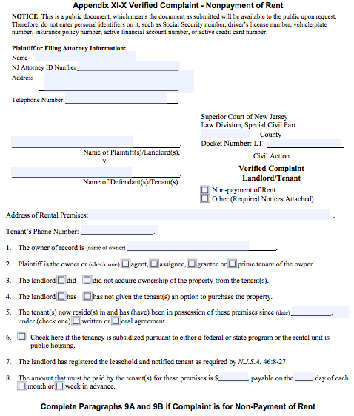checkbox: (110, 315, 121, 326), (186, 258, 197, 268), (81, 275, 92, 285), (16, 380, 27, 390), (198, 194, 210, 203), (16, 332, 28, 341), (227, 258, 237, 268), (56, 291, 66, 301), (83, 291, 93, 301), (149, 259, 160, 268), (70, 317, 82, 325), (200, 185, 210, 194), (121, 258, 130, 268), (56, 275, 66, 284), (54, 381, 64, 390)
textline: (88, 209, 335, 221), (10, 135, 181, 150), (10, 167, 181, 180), (126, 241, 278, 252), (30, 53, 180, 64), (37, 74, 181, 83), (36, 84, 180, 93), (64, 95, 182, 105), (77, 62, 181, 73), (79, 225, 155, 237), (264, 141, 346, 150), (199, 130, 259, 141), (289, 308, 334, 318), (218, 372, 249, 383), (293, 374, 314, 383)
